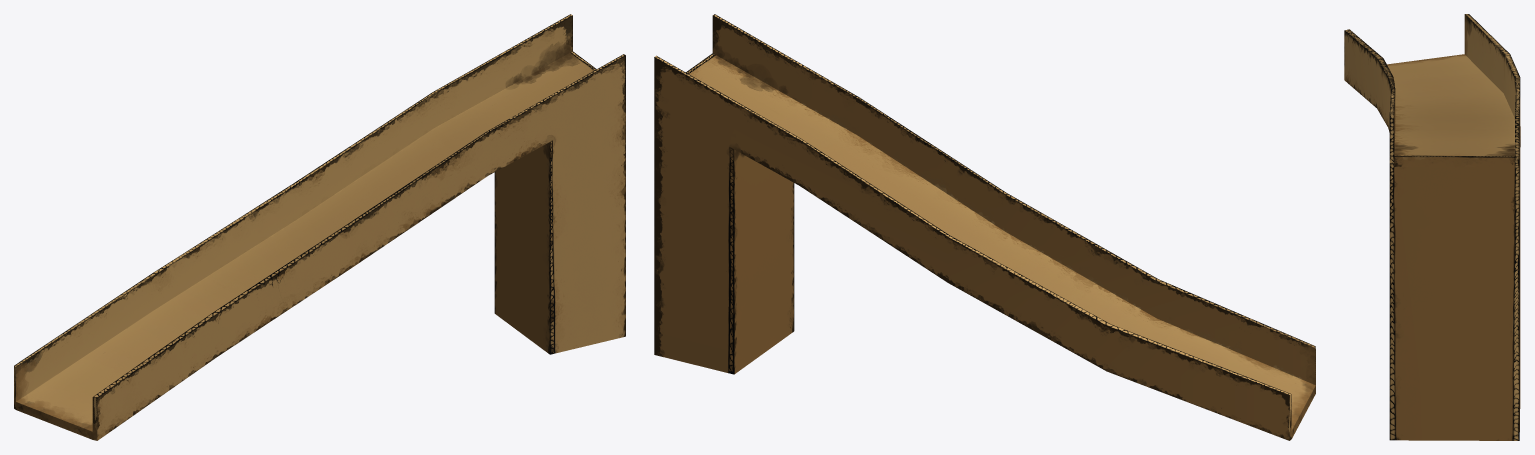
The model's file is SM_Part1_Playtrack.fbx.
3 views of the same model, side by side, from view 1: azimuth 30°, elevation 25°; view 2: azimuth 150°, elevation 25°; view 3: azimuth 270°, elevation 25° (orthographic). The views are drawn at different scales.
Parts seen in each view (by area): view 1: Panel_1; view 2: Panel_1; view 3: Panel_1.
Boxes of the visible parts, <box> form: Panel_1: <box>14,14,625,440</box>; Panel_1: <box>654,14,1315,440</box>; Panel_1: <box>1344,14,1520,440</box>.
Size of the model in its own units: 15655 by 7271 by 3577.
